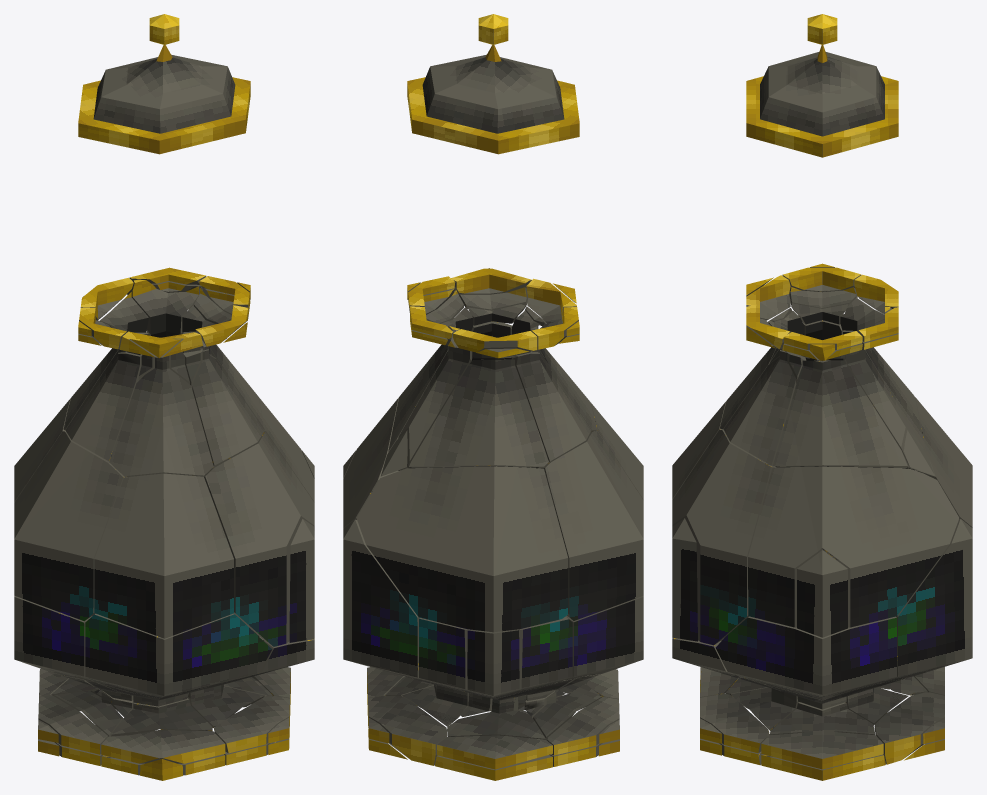
Rendered from fractured.glb.
The picture shows the model from 3 angles, left to right: view 1: azimuth 30°, elevation 25°; view 2: azimuth 150°, elevation 25°; view 3: azimuth 270°, elevation 25°; orthographic projection.
Visible parts, largest first — view 1: Pot_cell.059, Lid, Pot_cell.010, Pot_cell.015, Pot_cell.003, Pot_cell.034, Pot_cell.020, Pot_cell.069, Pot_cell.037, Pot_cell.048, Pot_cell.039, Pot_cell.014 (+26 smaller); view 2: Pot_cell.018, Lid, Pot_cell.010, Pot_cell.056, Pot_cell.005, Pot_cell.029, Pot_cell.020, Pot_cell.037, Pot_cell.054, Pot_cell.016, Pot_cell.041, Pot_cell.071 (+23 smaller); view 3: Pot_cell.041, Lid, Pot_cell.015, Pot_cell.027, Pot_cell.026, Pot_cell.005, Pot_cell.069, Pot_cell.007, Pot_cell.053, Pot_cell.018, Pot_cell.054, Pot_cell.039 (+24 smaller).
Boxes of the visible parts, x1,y1,x2,y2 form: Pot_cell.059: (94, 473, 233, 638); Lid: (78, 14, 250, 154); Pot_cell.010: (14, 431, 127, 621); Pot_cell.015: (201, 431, 314, 646); Pot_cell.003: (85, 613, 272, 698); Pot_cell.034: (109, 356, 213, 476); Pot_cell.020: (14, 595, 93, 681); Pot_cell.069: (192, 347, 264, 465); Pot_cell.037: (65, 351, 142, 461); Pot_cell.048: (101, 729, 225, 763); Pot_cell.039: (289, 519, 314, 642); Pot_cell.014: (214, 696, 289, 753); Pot_cell.018: (356, 466, 568, 632); Lid: (407, 14, 579, 154); Pot_cell.010: (538, 431, 643, 620); Pot_cell.056: (409, 359, 548, 467); Pot_cell.005: (343, 519, 436, 683); Pot_cell.029: (419, 616, 572, 698); Pot_cell.020: (565, 595, 643, 680); Pot_cell.037: (511, 351, 591, 461); Pot_cell.054: (368, 695, 446, 765); Pot_cell.016: (467, 630, 519, 696); Pot_cell.041: (343, 397, 430, 528); Pot_cell.071: (398, 326, 472, 470); Pot_cell.041: (748, 466, 959, 627); Lid: (746, 14, 898, 157); Pot_cell.015: (672, 429, 776, 645); Pot_cell.027: (715, 616, 896, 700); Pot_cell.026: (773, 360, 909, 467); Pot_cell.005: (882, 518, 972, 682); Pot_cell.069: (723, 350, 796, 465); Pot_cell.007: (797, 550, 847, 637); Pot_cell.053: (761, 731, 883, 769); Pot_cell.018: (888, 397, 972, 527); Pot_cell.054: (874, 692, 944, 764); Pot_cell.039: (672, 518, 697, 641).
Bounding box in the file's own units: 0.4936 × 1.11 × 0.4275.
Materials: 1 (1 with a texture image).
